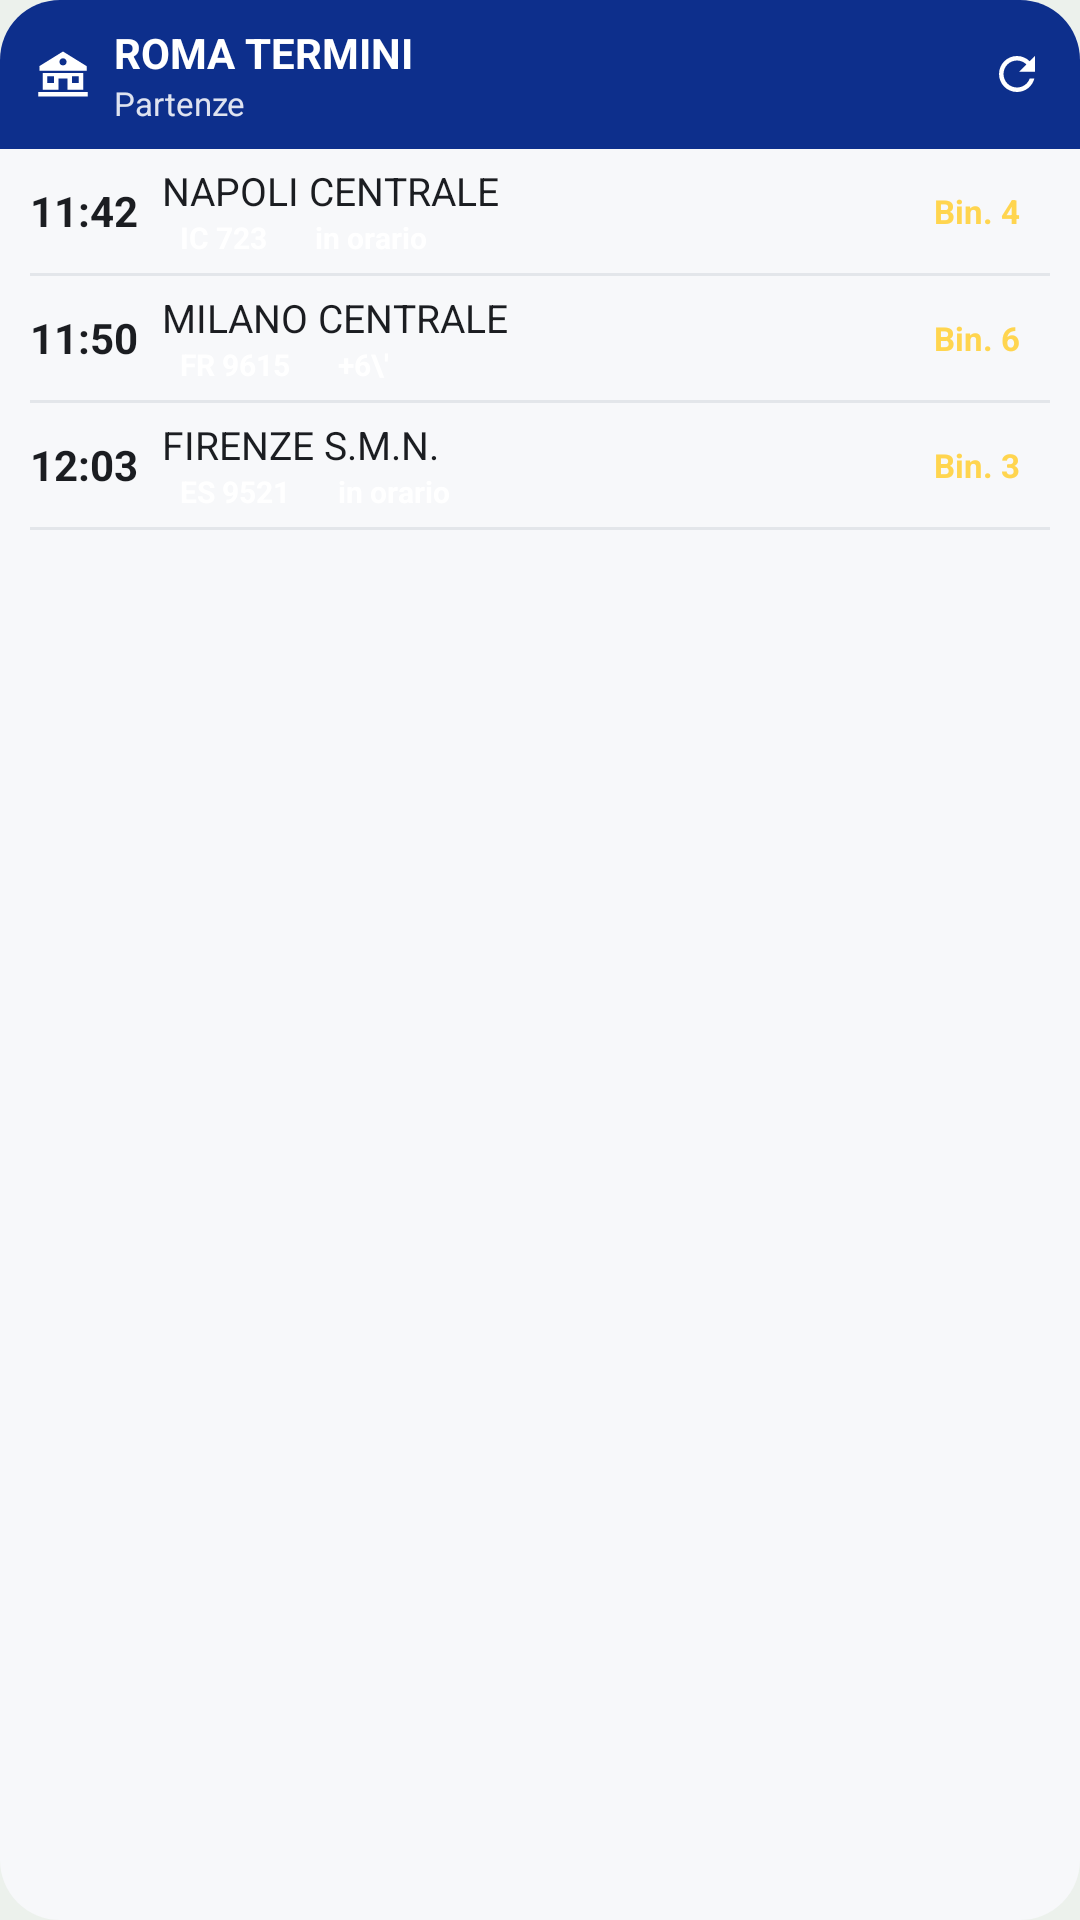

Screen size 1080px×1920px. Icon name, then its box in pixels as (x1, y1, x2, y2):
station: (38, 51, 88, 97)
widget refresh: (999, 56, 1035, 92)
